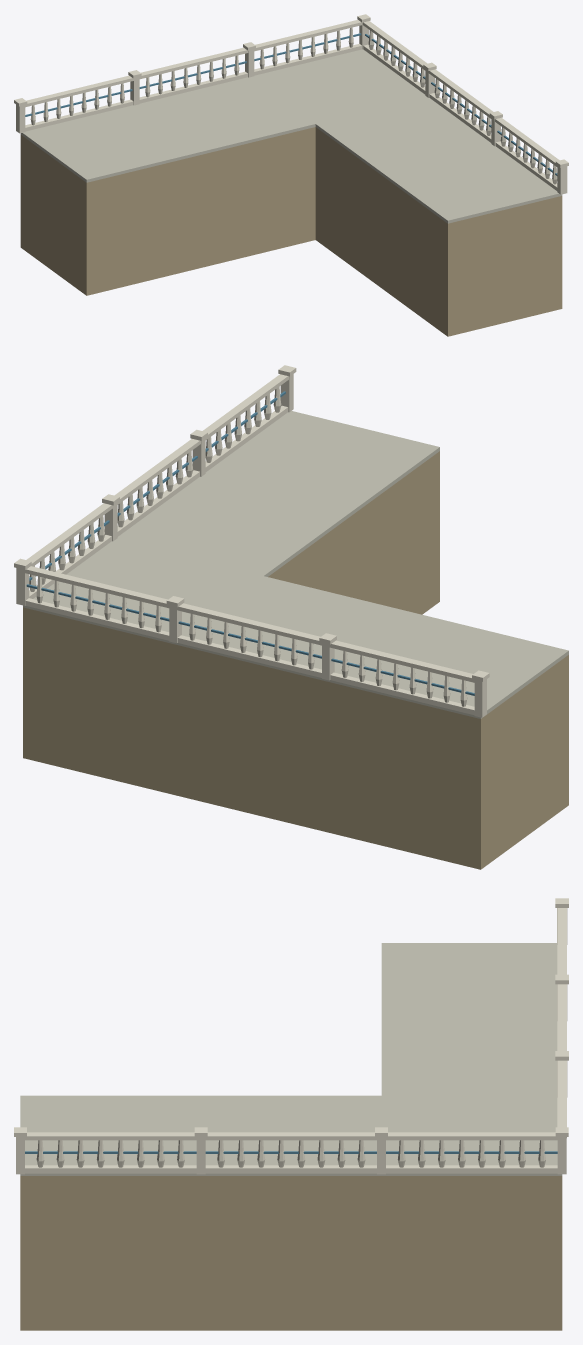
The model's file is KOL_HBR_RF_03.fbx.
The picture shows the model from 3 angles, top to bottom: view 1: azimuth 30°, elevation 25°; view 2: azimuth 150°, elevation 25°; view 3: azimuth 270°, elevation 25°; orthographic projection. The views are drawn at different scales.
Visible parts, largest first — view 1: KOL_HBR_RF_03__CornerFoundation__Stone, KOL_HBR_RF_03__CornerFoundation__Concrete, KOL_HBR_RF_03__Balustrade16__White, KOL_HBR_RF_03__Balustrade16__White.001, KOL_HBR_RF_03__Balustrade16__White.002, KOL_HBR_RF_03__Balustrade16__White.004, KOL_HBR_RF_03__Balustrade16__White.005, KOL_HBR_RF_03__Balustrade16__White.003; view 2: KOL_HBR_RF_03__CornerFoundation__Stone, KOL_HBR_RF_03__CornerFoundation__Concrete, KOL_HBR_RF_03__Balustrade16__White, KOL_HBR_RF_03__Balustrade16__White.002, KOL_HBR_RF_03__Balustrade16__White.001, KOL_HBR_RF_03__Balustrade16__White.004, KOL_HBR_RF_03__Balustrade16__White.005, KOL_HBR_RF_03__Balustrade16__White.003; view 3: KOL_HBR_RF_03__CornerFoundation__Stone, KOL_HBR_RF_03__CornerFoundation__Concrete, KOL_HBR_RF_03__Balustrade16__White.003, KOL_HBR_RF_03__Balustrade16__White.005, KOL_HBR_RF_03__Balustrade16__White.004, KOL_HBR_RF_03__Balustrade16__White.001, KOL_HBR_RF_03__Balustrade16__White.002, KOL_HBR_RF_03__Balustrade16__White.
Boxes of the visible parts, box(x1,y1,x2,y2) form: KOL_HBR_RF_03__CornerFoundation__Stone: box(20, 127, 562, 336); KOL_HBR_RF_03__CornerFoundation__Concrete: box(20, 49, 562, 223); KOL_HBR_RF_03__Balustrade16__White: box(14, 75, 133, 133); KOL_HBR_RF_03__Balustrade16__White.001: box(128, 47, 248, 105); KOL_HBR_RF_03__Balustrade16__White.002: box(243, 20, 362, 77); KOL_HBR_RF_03__Balustrade16__White.004: box(423, 62, 493, 142); KOL_HBR_RF_03__Balustrade16__White.005: box(489, 111, 559, 190); KOL_HBR_RF_03__Balustrade16__White.003: box(357, 14, 427, 94); KOL_HBR_RF_03__CornerFoundation__Stone: box(23, 451, 568, 869); KOL_HBR_RF_03__CornerFoundation__Concrete: box(23, 411, 568, 718); KOL_HBR_RF_03__Balustrade16__White: box(329, 640, 489, 717); KOL_HBR_RF_03__Balustrade16__White.002: box(20, 566, 184, 643); KOL_HBR_RF_03__Balustrade16__White.001: box(177, 603, 336, 680); KOL_HBR_RF_03__Balustrade16__White.004: box(102, 439, 200, 541); KOL_HBR_RF_03__Balustrade16__White.005: box(190, 374, 288, 476); KOL_HBR_RF_03__Balustrade16__White.003: box(14, 503, 112, 605); KOL_HBR_RF_03__CornerFoundation__Stone: box(20, 1176, 562, 1330); KOL_HBR_RF_03__CornerFoundation__Concrete: box(20, 943, 562, 1175); KOL_HBR_RF_03__Balustrade16__White.003: box(386, 1127, 568, 1174); KOL_HBR_RF_03__Balustrade16__White.005: box(25, 1127, 207, 1174); KOL_HBR_RF_03__Balustrade16__White.004: box(205, 1127, 387, 1174); KOL_HBR_RF_03__Balustrade16__White.001: box(555, 974, 568, 1050); KOL_HBR_RF_03__Balustrade16__White.002: box(555, 1051, 568, 1137); KOL_HBR_RF_03__Balustrade16__White: box(555, 898, 568, 974).
Size of the model in its own units: 49.18 by 19.6 by 49.18.
